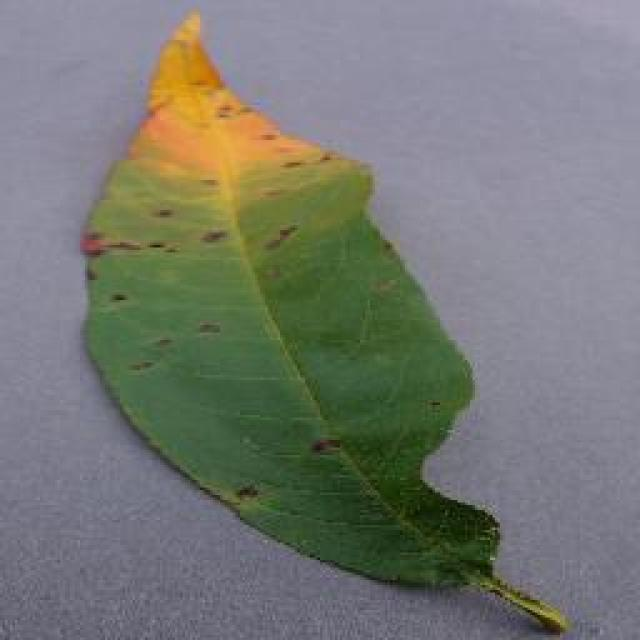Peach_Bacterial_Spot: (86, 49, 372, 314)
